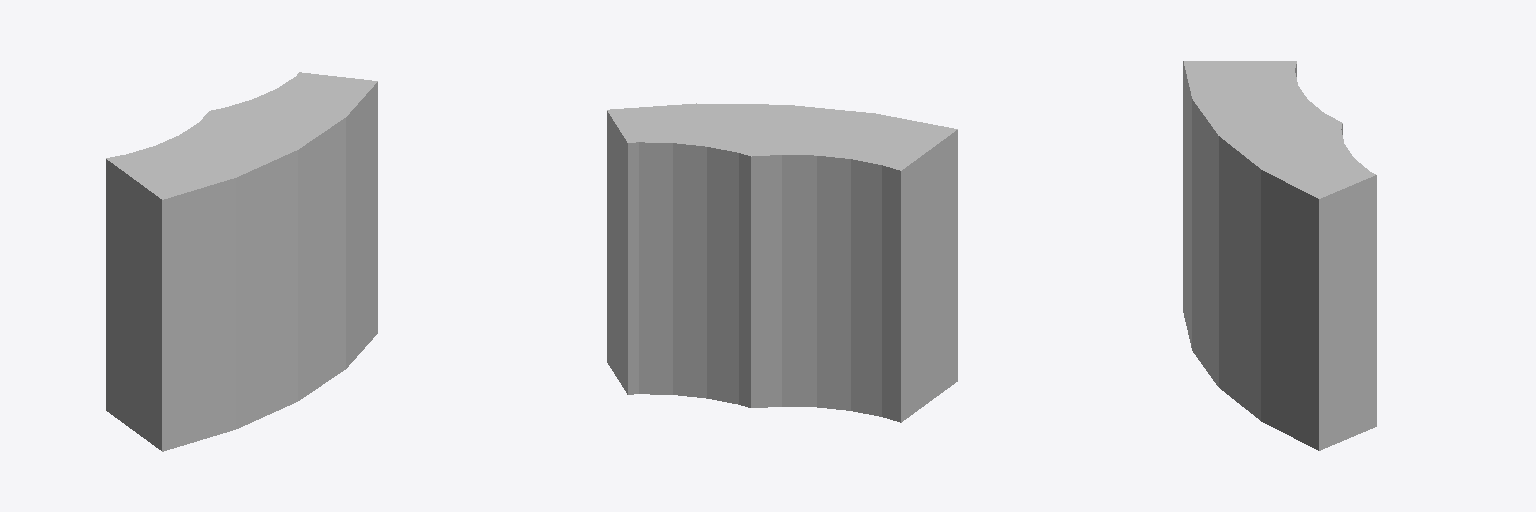
Rendered from slice1_3.obj.
3 renders of one model, left to right at view 1: azimuth 30°, elevation 25°; view 2: azimuth 150°, elevation 25°; view 3: azimuth 270°, elevation 25°, orthographic.
Parts seen in each view (by area): view 1: slice1_3_Cube.001; view 2: slice1_3_Cube.001; view 3: slice1_3_Cube.001.
Part boxes in pixels (x1,y1,x2,y2): slice1_3_Cube.001: (106, 72, 377, 451); slice1_3_Cube.001: (607, 103, 957, 422); slice1_3_Cube.001: (1183, 61, 1376, 450).
Bounding box in the file's own units: 1.41 × 1.2 × 0.8345.